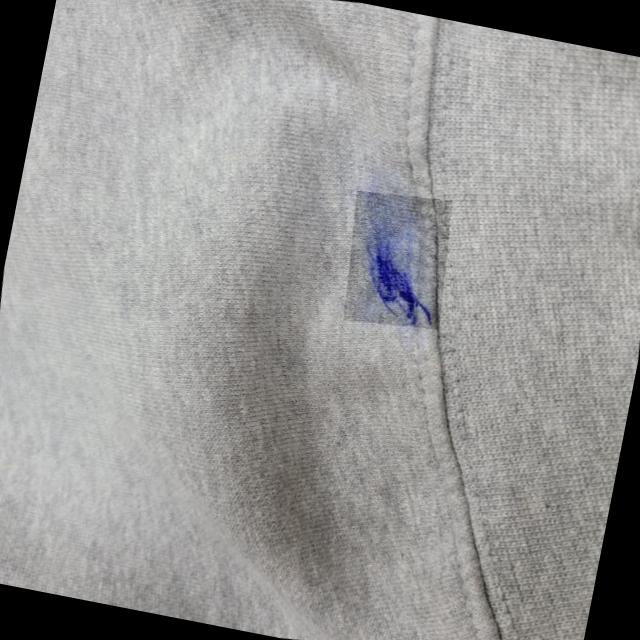Stain: (338, 188, 451, 329)
seam: (295, 12, 640, 640)
